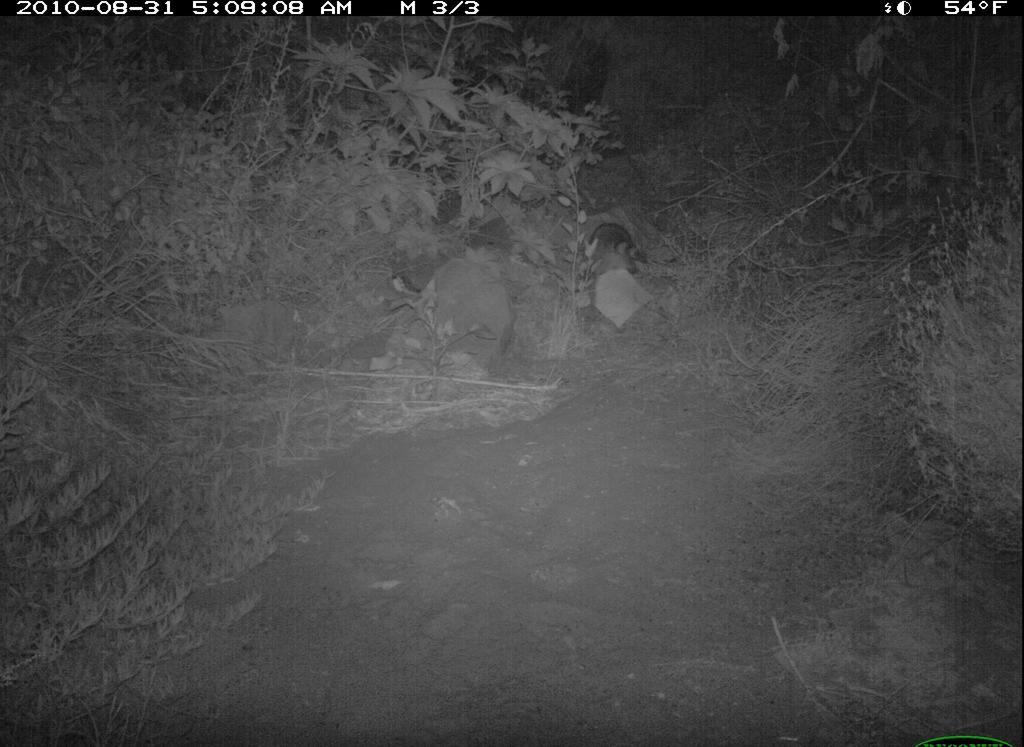raccoon: (587, 214, 648, 314)
